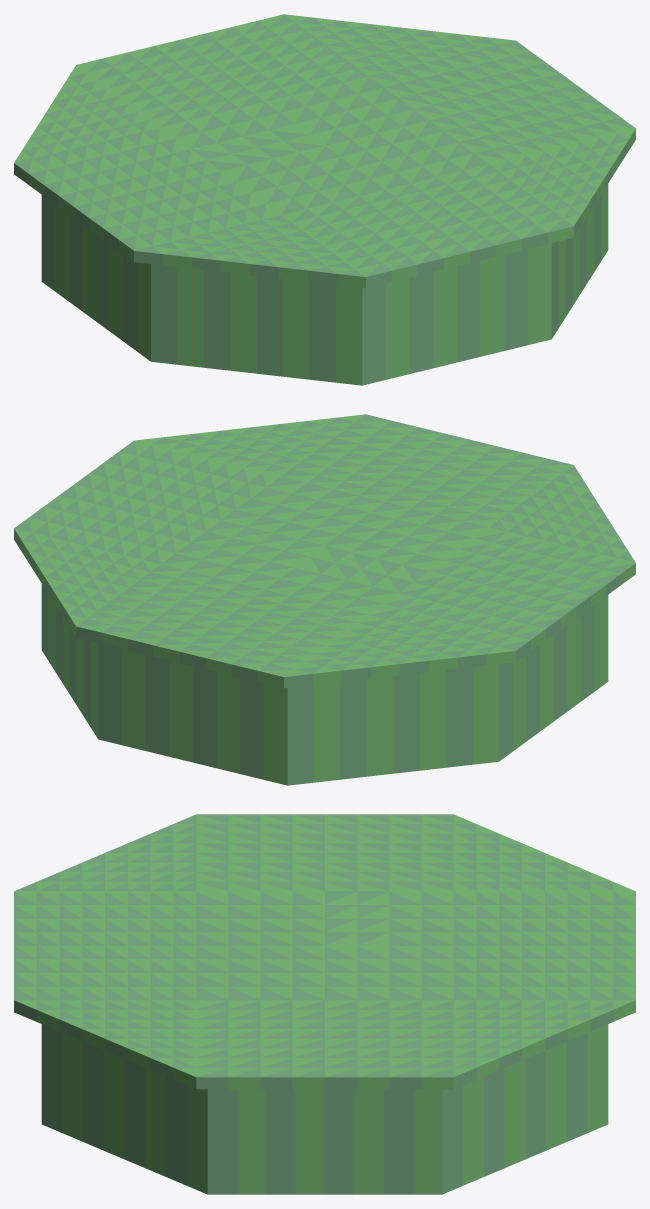
The model's file is ground200x200.fbx.
The picture shows the model from 3 angles, top to bottom: view 1: azimuth 30°, elevation 25°; view 2: azimuth 150°, elevation 25°; view 3: azimuth 270°, elevation 25°; orthographic projection. The views are drawn at different scales.
Visible parts, largest first — view 1: Circle.008; view 2: Circle.008; view 3: Circle.008.
Boxes of the visible parts, <box> form: Circle.008: <box>14,14,635,385</box>; Circle.008: <box>14,414,635,785</box>; Circle.008: <box>14,814,635,1194</box>.
Size of the model in its own units: 18478 by 4229 by 18478.
